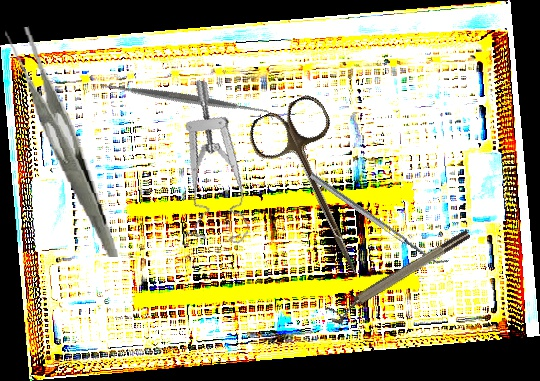Dressing Forceps: (4, 20, 119, 265)
Fixation Ring: (324, 226, 476, 328)
Iris Scissors: (242, 90, 396, 290)
Spatula Surgical: (95, 10, 274, 187), (309, 167, 449, 271)
Speculum: (157, 79, 283, 250)
